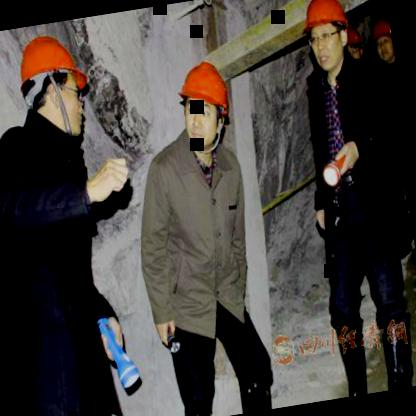helmet: (4, 17, 98, 145), (169, 54, 240, 153), (294, 0, 359, 72), (367, 13, 395, 66), (338, 22, 368, 69)
